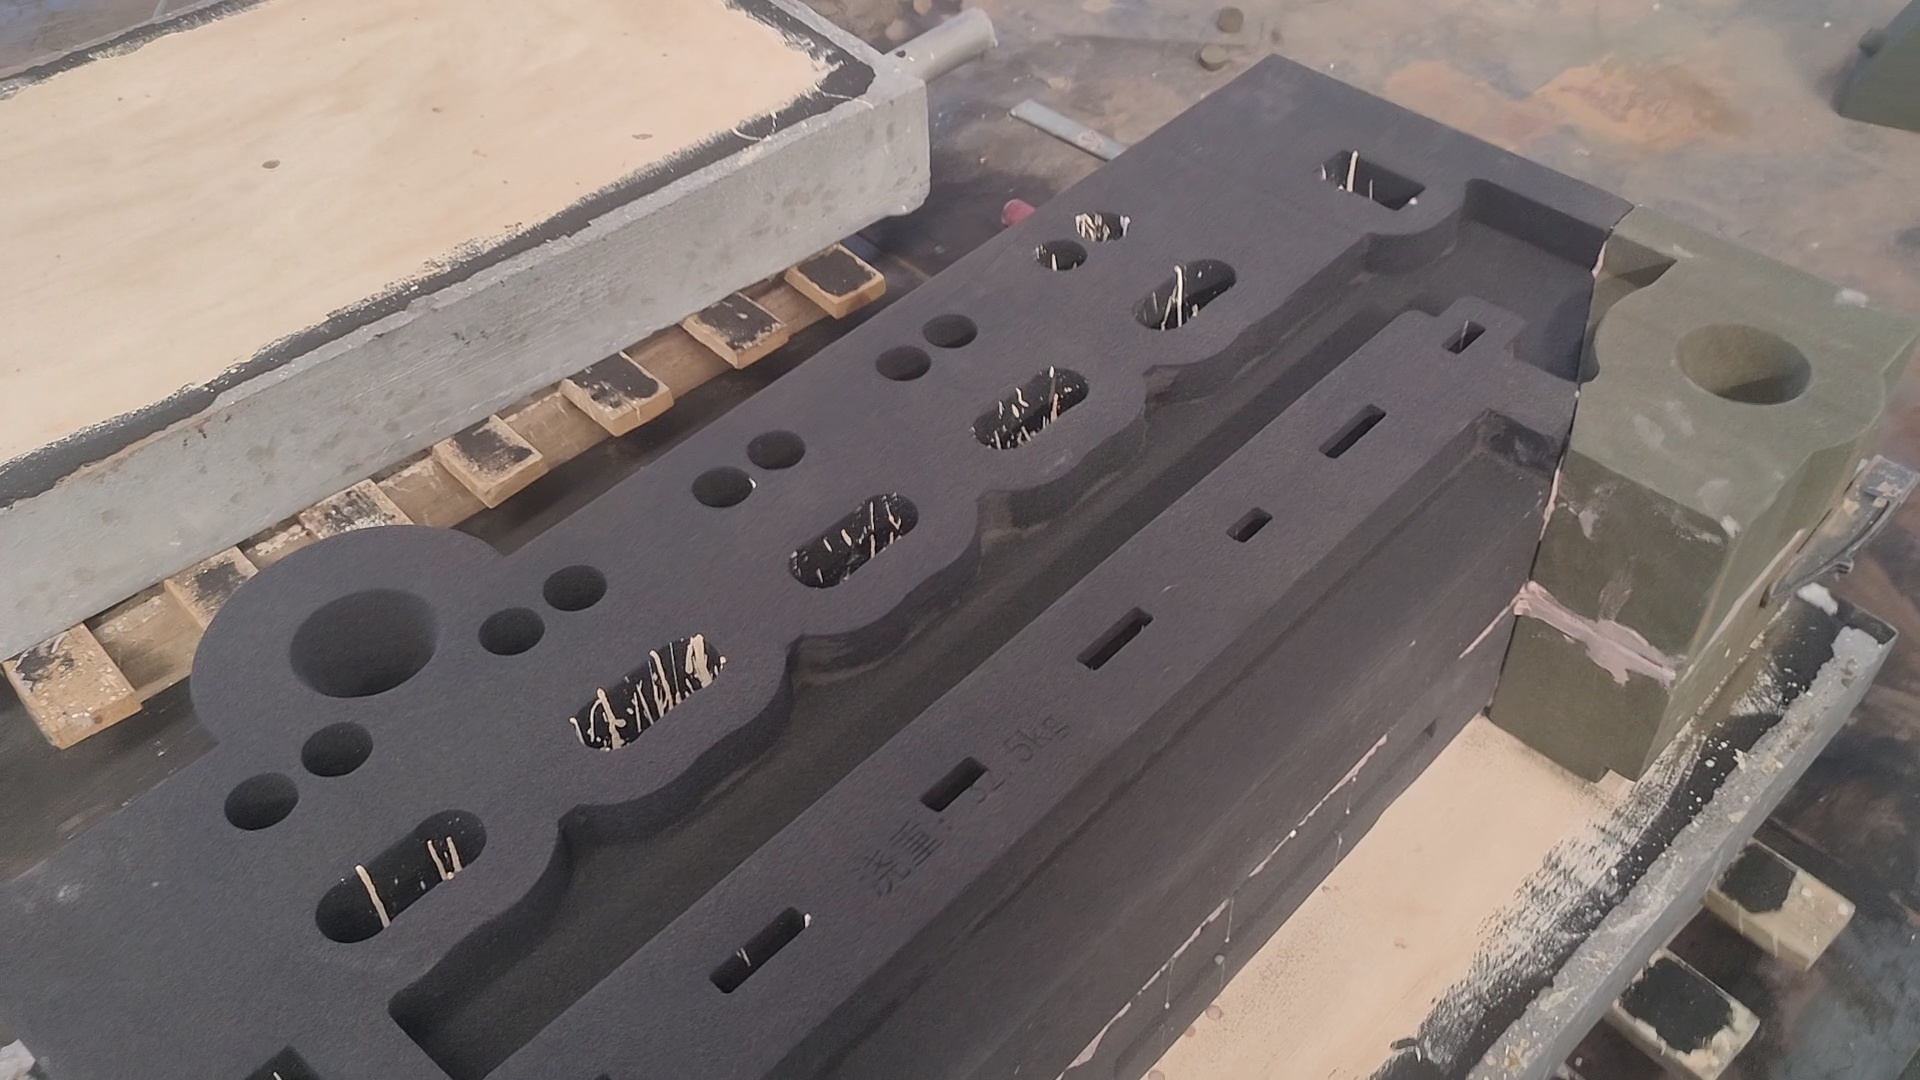pouring hole: (285, 587, 443, 700), (1673, 322, 1813, 407)
